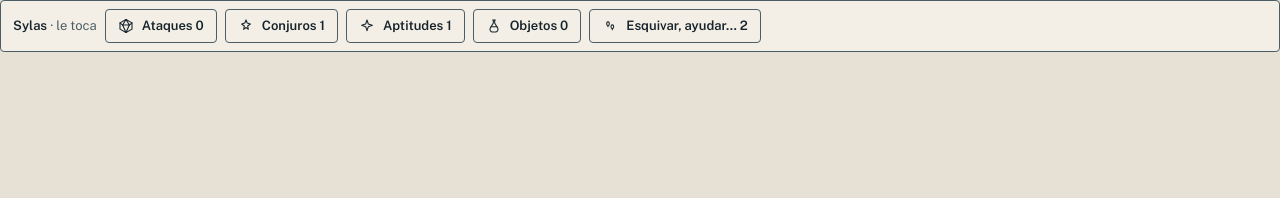
Test: BarraDeAcciones — los cinco botones › ningún valor de enumeración llega al DOM: ni el coste, ni el motivo, ni la clave
Click the button with aria-label "Aptitudes: 1" at coordinates (405, 26), box [346,9,465,42]
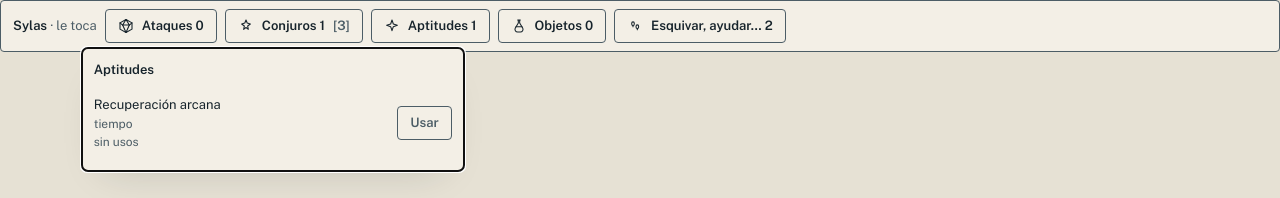
Check: the text "sin usos" is shown, box [94,134,138,148]
